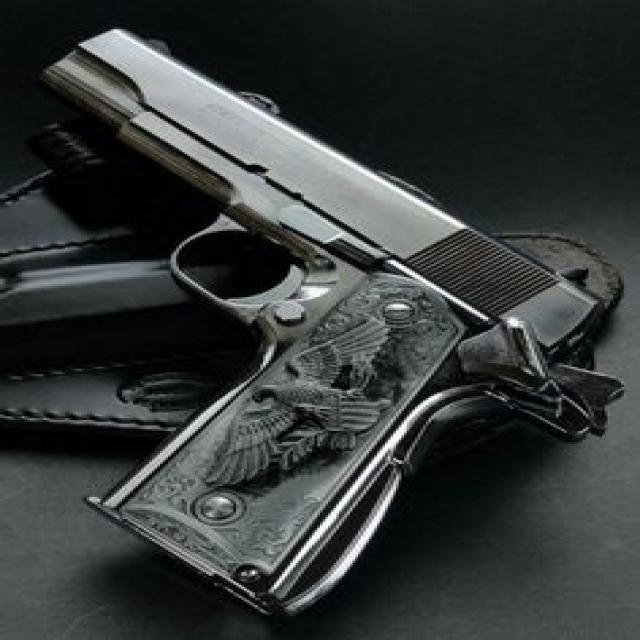semi automatic: (13, 14, 640, 623)
